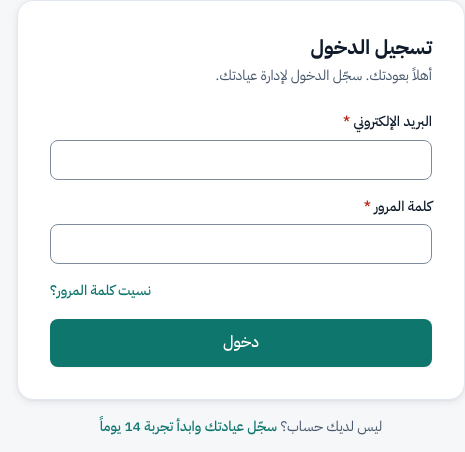
Scenario: Sign-in: the MFA challenge › can go back to the password step
Step 1. Type "root@platform.test" into the field labelled "البريد الإلكتروني *" → (241, 160), box [50,140,432,180]
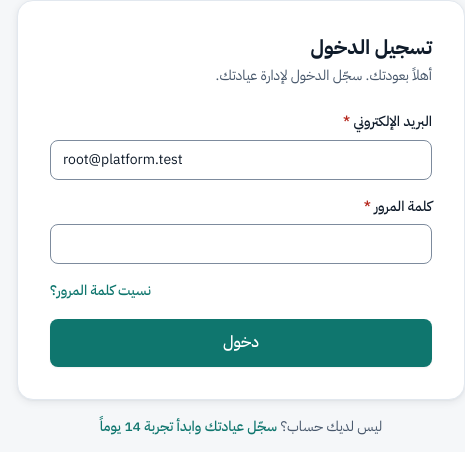
Step 2. Type "Platform-Admin-Passw0rd!" into the password field labelled "كلمة المرور *" → (241, 244), box [50,224,432,264]
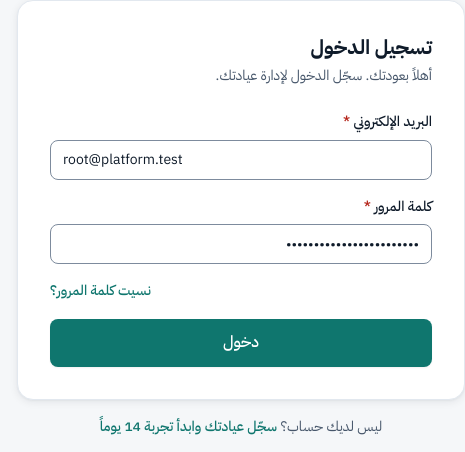
Step 3. Click the button "دخول" → click(241, 343), box [50,319,432,367]
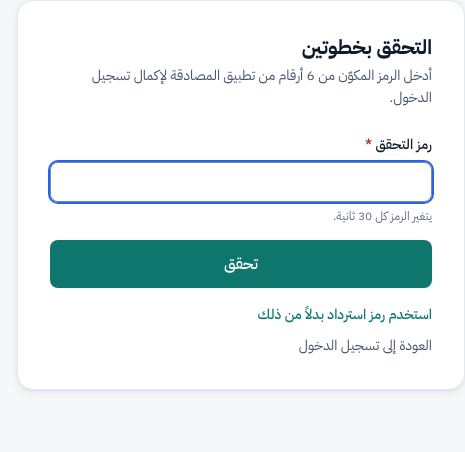
Step 4. Click the button "العودة إلى تسجيل الدخول" → click(365, 346), box [299,335,432,357]
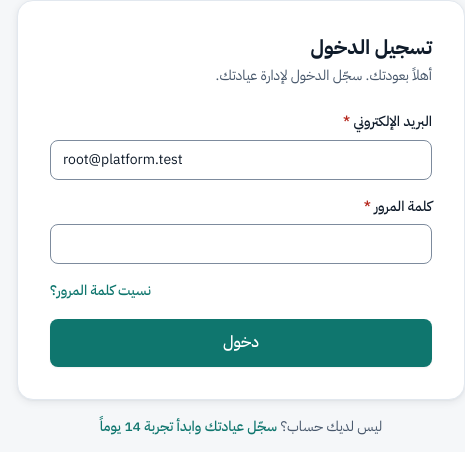
expect the heading "تسجيل الدخول" is shown: met, box [310,32,432,62]
